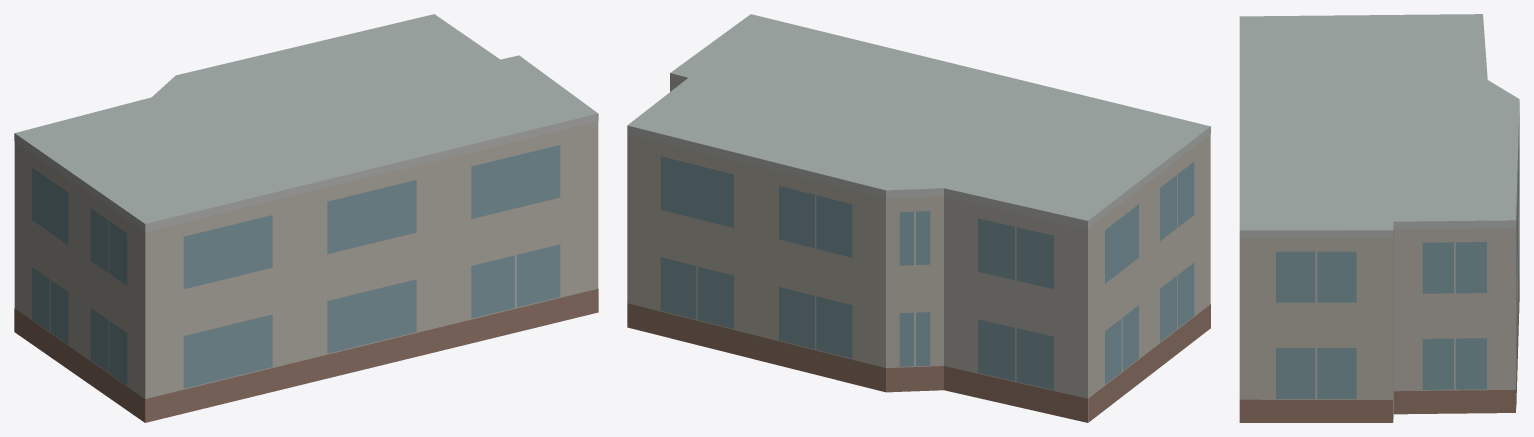
File: survey-upis-32922872.glb
3 renders of one model, left to right at view 1: azimuth 30°, elevation 25°; view 2: azimuth 150°, elevation 25°; view 3: azimuth 270°, elevation 25°, orthographic. The views are drawn at different scales.
Visible parts, largest first — view 1: survey-upis-32922872.tmp; view 2: survey-upis-32922872.tmp; view 3: survey-upis-32922872.tmp.
Boxes of the visible parts, x1,y1,x2,y2 form: survey-upis-32922872.tmp: [14, 14, 598, 422]; survey-upis-32922872.tmp: [627, 14, 1210, 422]; survey-upis-32922872.tmp: [1239, 14, 1519, 422].
Size of the model in its own units: 14.72 by 6.1 by 8.06.
